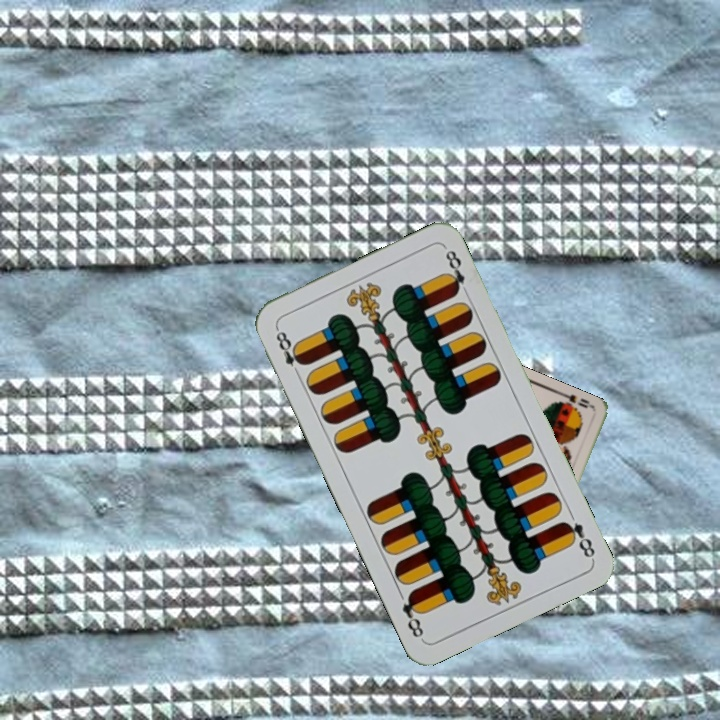E8: (271, 323, 308, 379), (558, 517, 598, 562)
SO: (555, 389, 597, 413)
